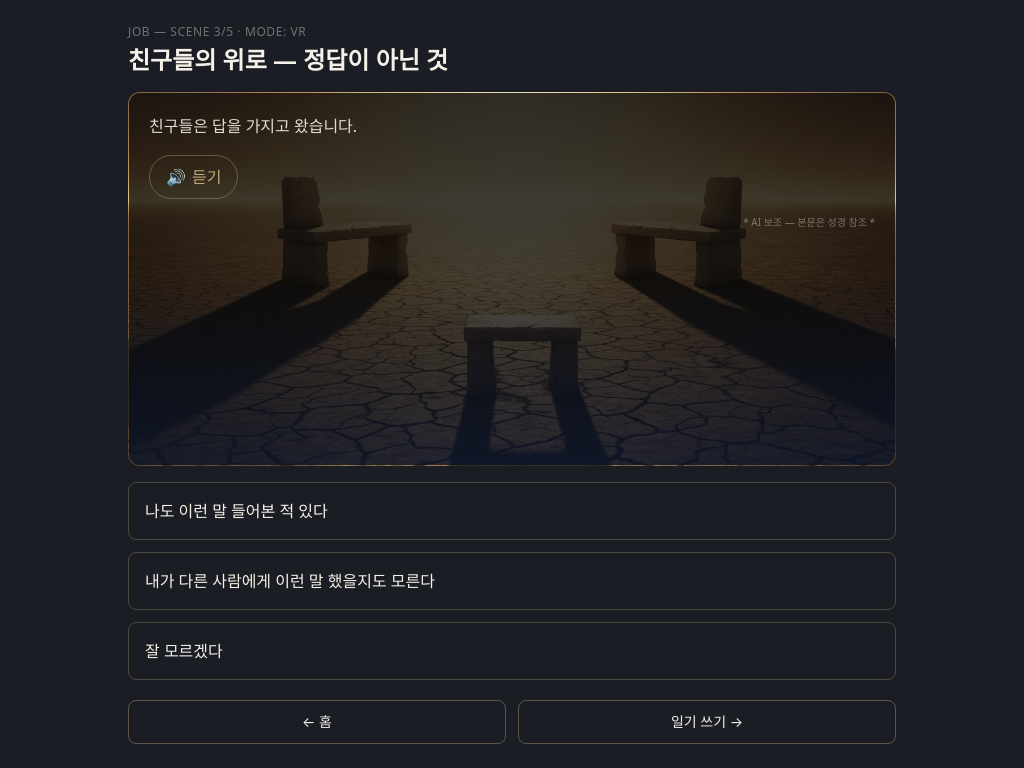
욥 미션 — 씬 상태 기계 › 선택을 고르면 나머지 선택지는 화면에서 내려간다
The image size is (1024, 768).
Click the button "내가 다른 사람에게 이런 말 했을지도 모른다": [290, 581] box [128,552,896,610]
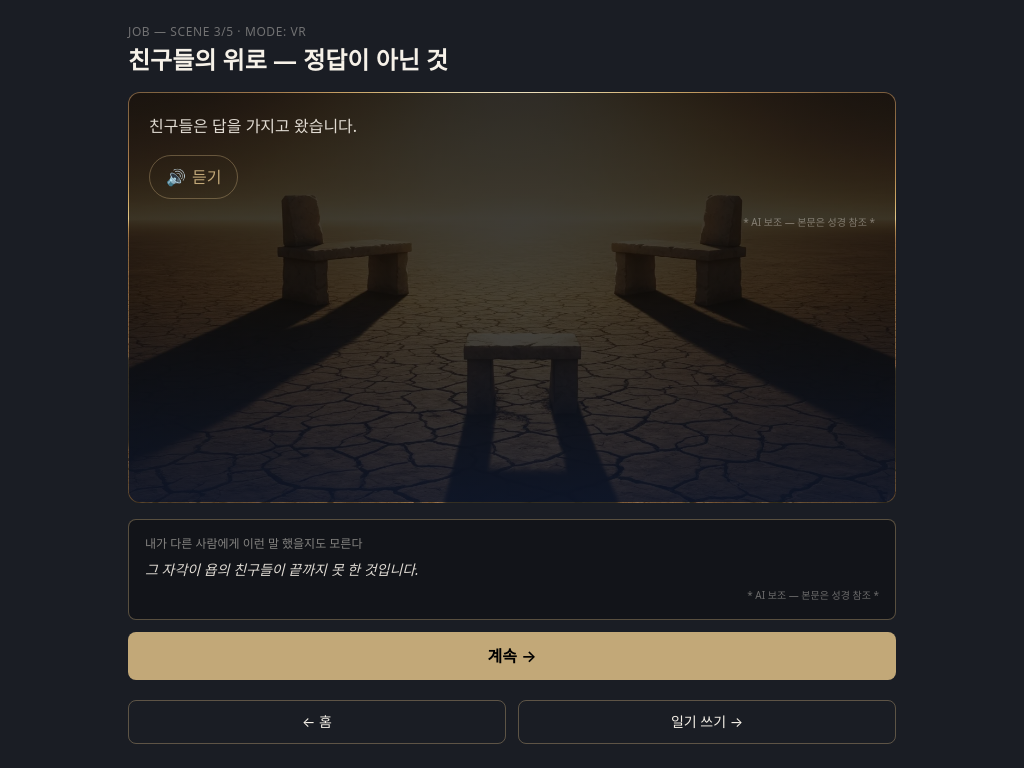
expect the text "그 자각이 욥의 친구들이 끝까지 못 한 것입니다." is shown: met, box [145,560,419,579]
expect the button "잘 모르겠다" is gone: met
